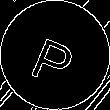P_NE: (28, 24, 82, 86)
